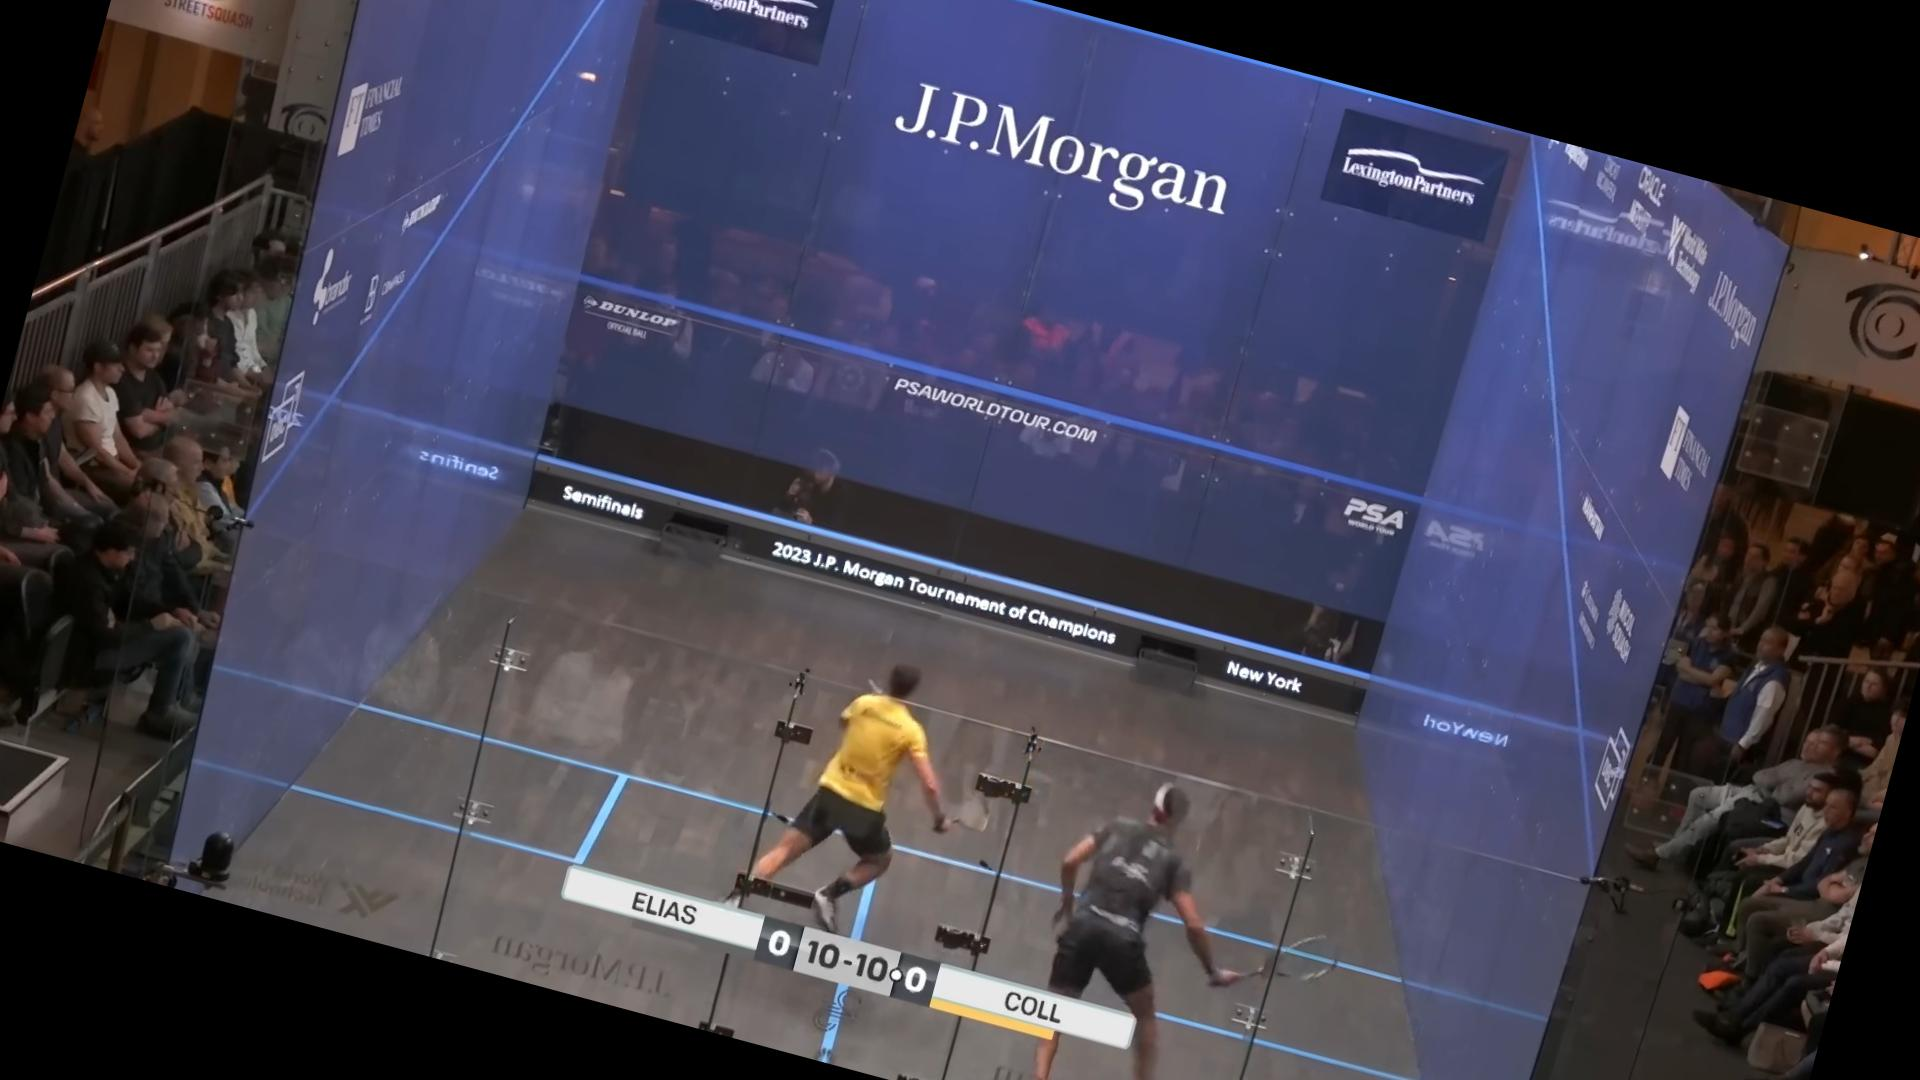Racket: (1225, 905, 1356, 1006), (938, 773, 1014, 847)
